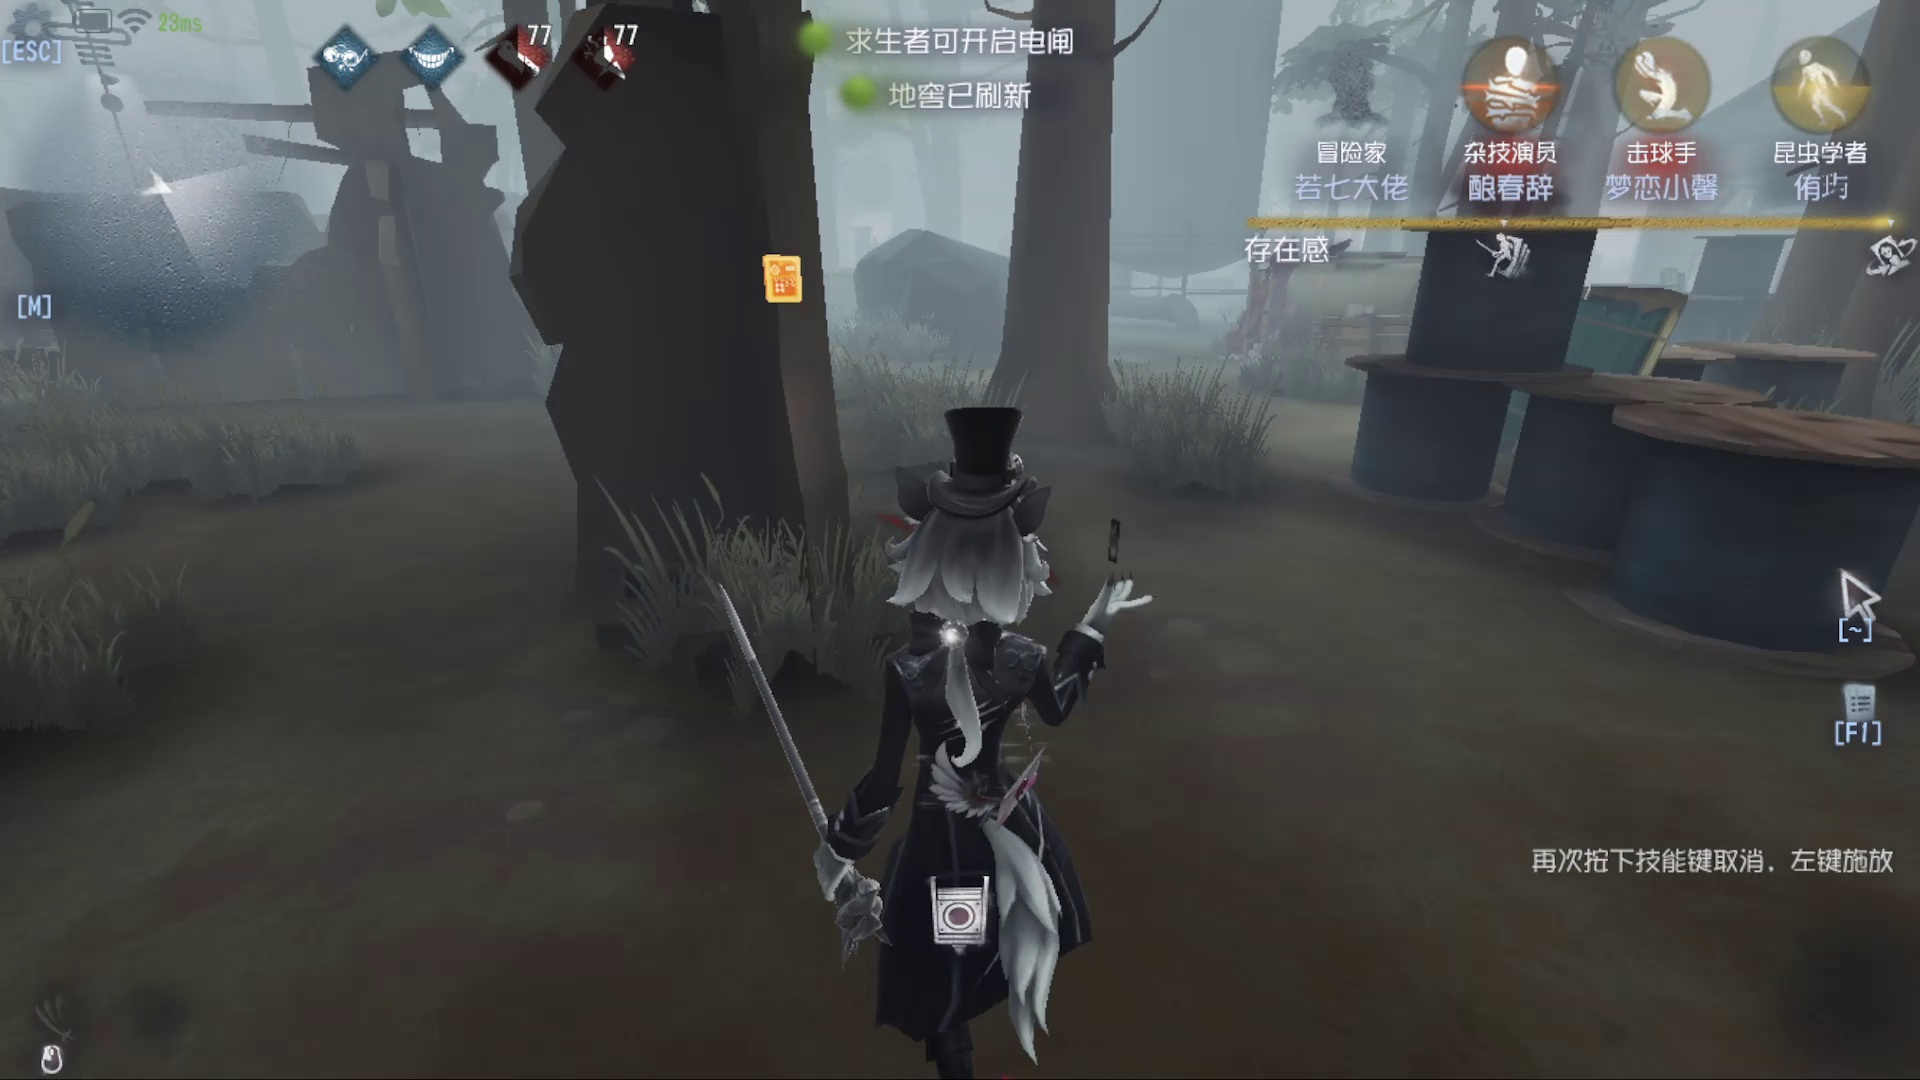木板: (1524, 266, 1687, 413)
